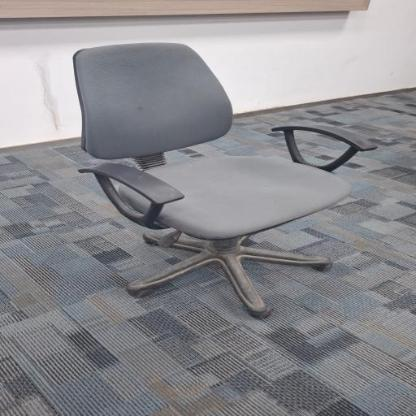chair: (63, 35, 381, 324)
